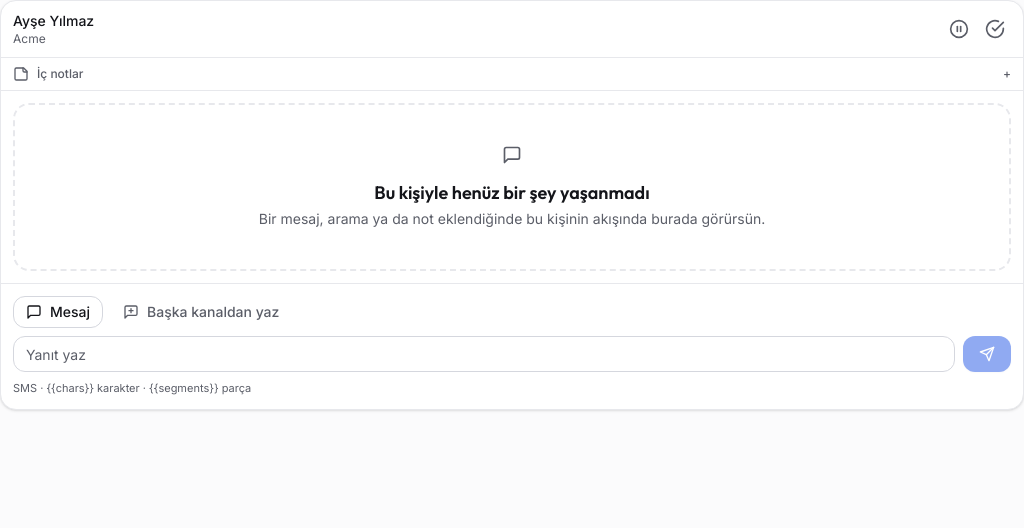
Scenario: PersonPane — a note nobody could fetch is not a note nobody wrote › says the notes could not be read instead of claiming there are none
What coordinates should you click on to do the following:
click the button "İç notlar +"
I would click on:
 (60, 74)
Its box is [13, 66, 1011, 82].
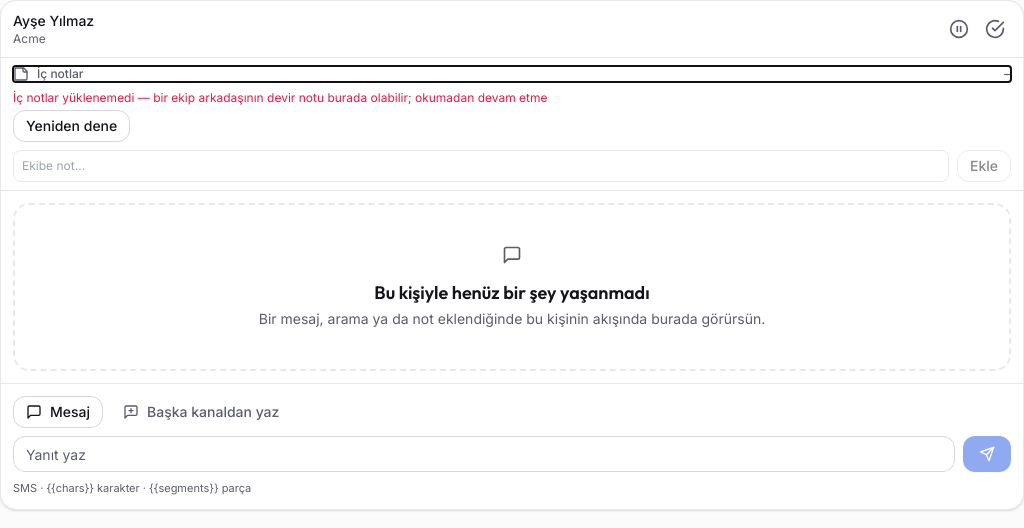
Check: the message with test id "person-pane-notes-failed" shows "İç notlar yüklenemedi", box [13, 90, 134, 105]
